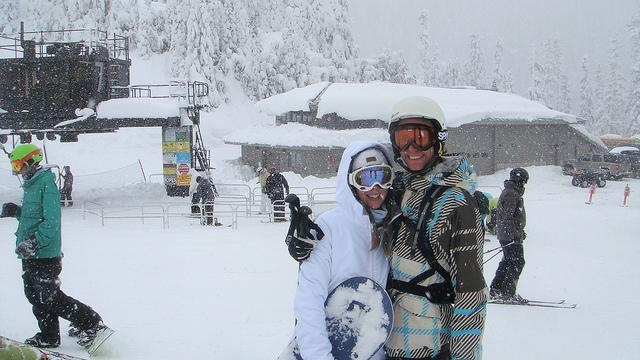person: (366, 91, 492, 357), (282, 140, 405, 360), (5, 141, 115, 352), (495, 163, 542, 305), (267, 165, 293, 221)
